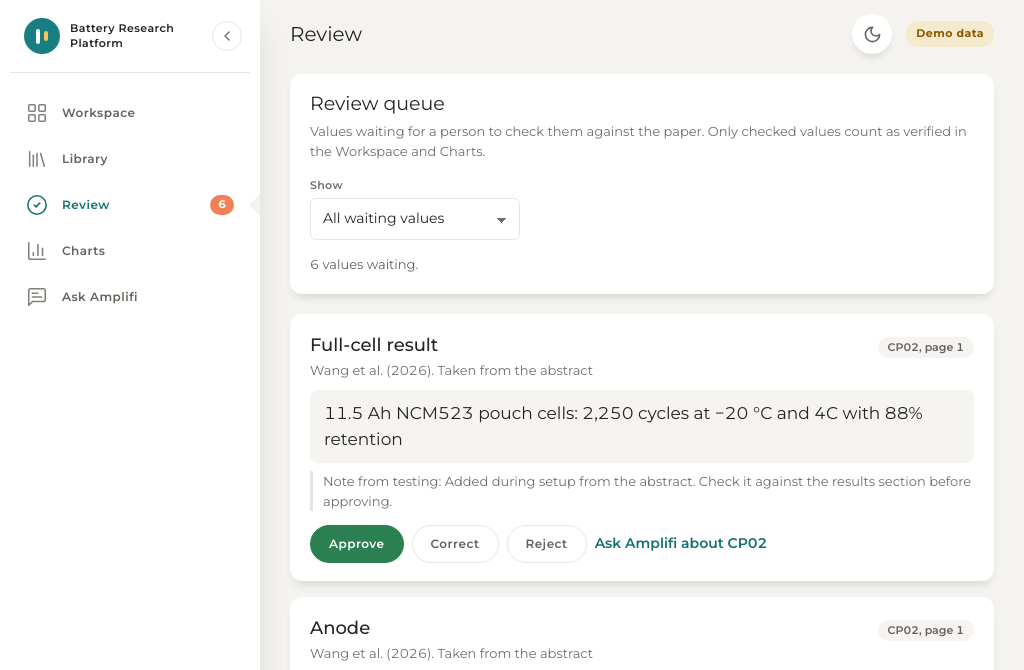
Review › requires a value before saving a correction
This screenshot has width=1024, height=670.
Click the button "Correct" below "Full-cell result": (455, 544) x1=412 y1=525 x2=498 y2=563
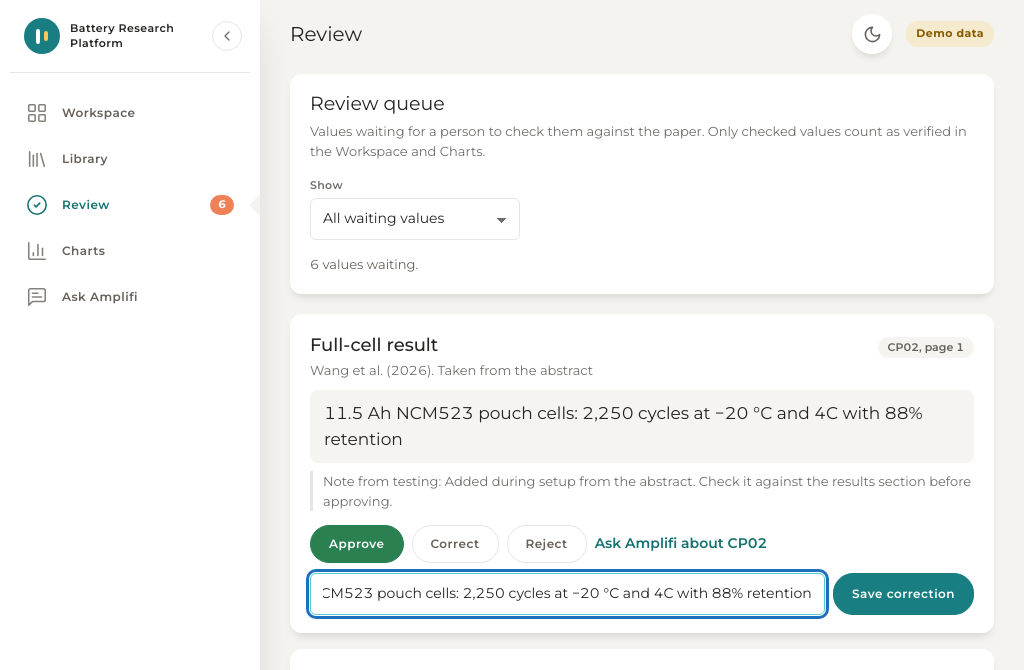
Clear the field named "Corrected value for": (568, 594) x1=310 y1=573 x2=825 y2=615
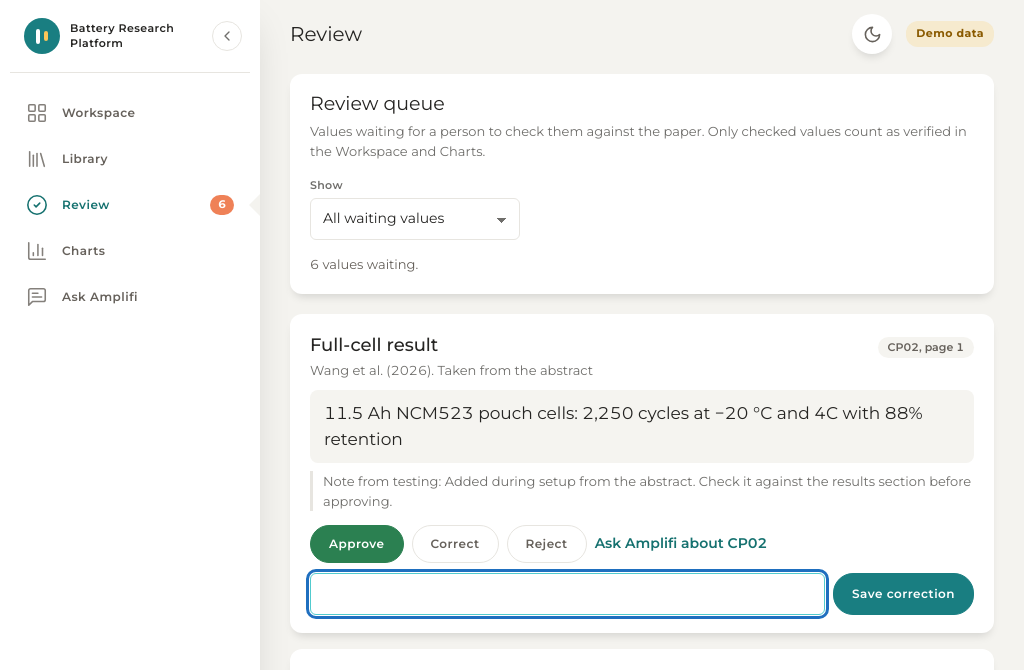
Click the button "Save correction": (904, 594) x1=833 y1=573 x2=974 y2=615
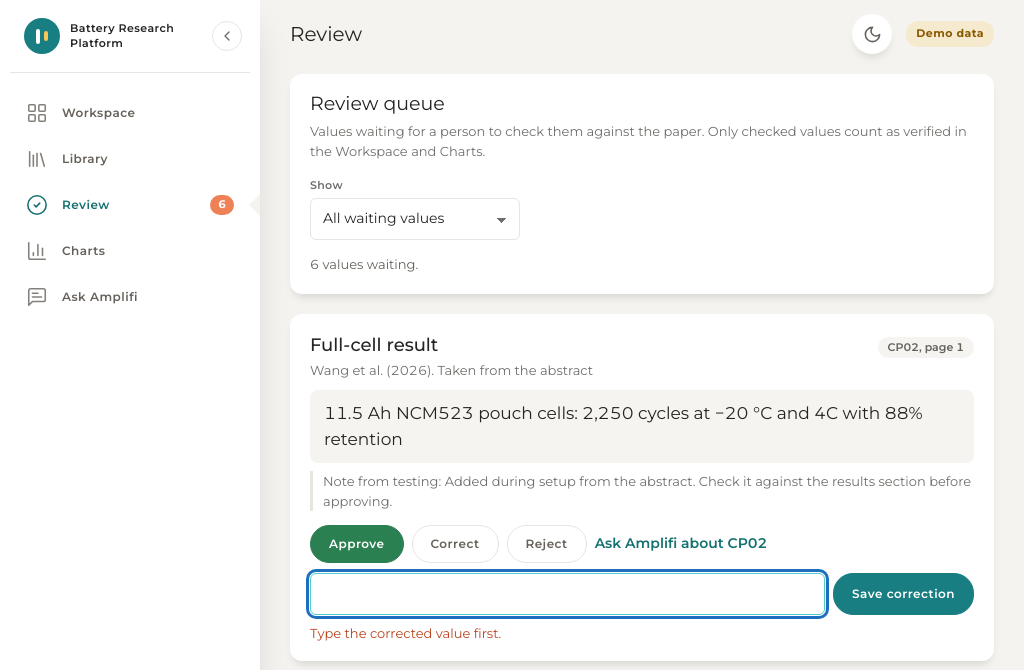
expect the text "Type the corrected value first." is shown: met, box x1=310 y1=625 x2=501 y2=641
In the field named "Corrected value for": (568, 594) x1=310 y1=573 x2=825 y2=615, type "11.5 Ah pouch, 2,250 cycles"
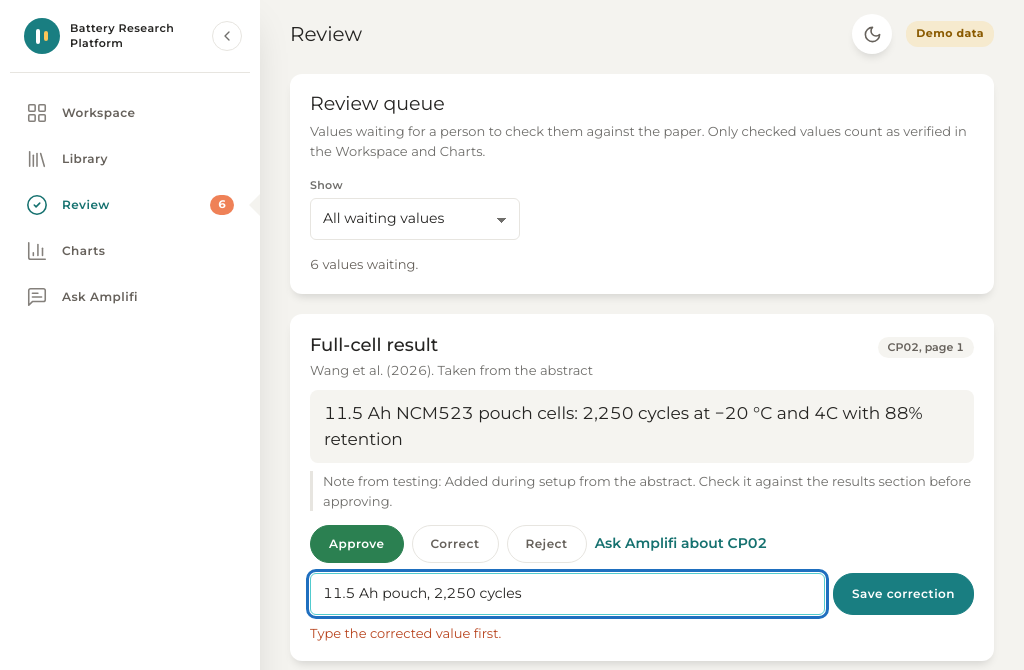
Click the button "Save correction": (904, 594) x1=833 y1=573 x2=974 y2=615
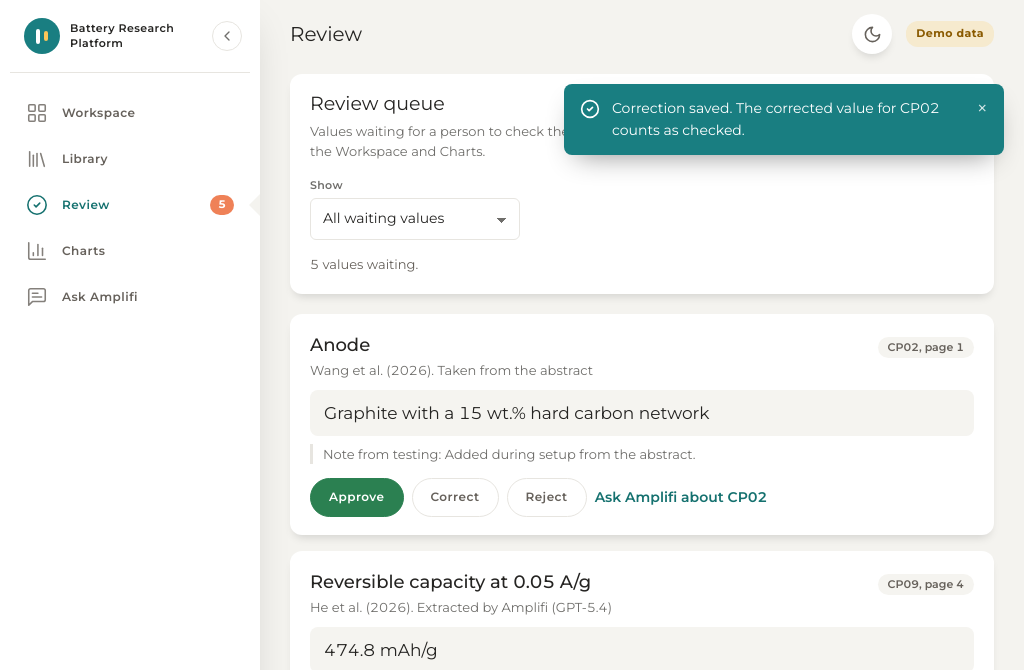
expect the text "Correction saved." is shown: met, box x1=612 y1=99 x2=940 y2=139
